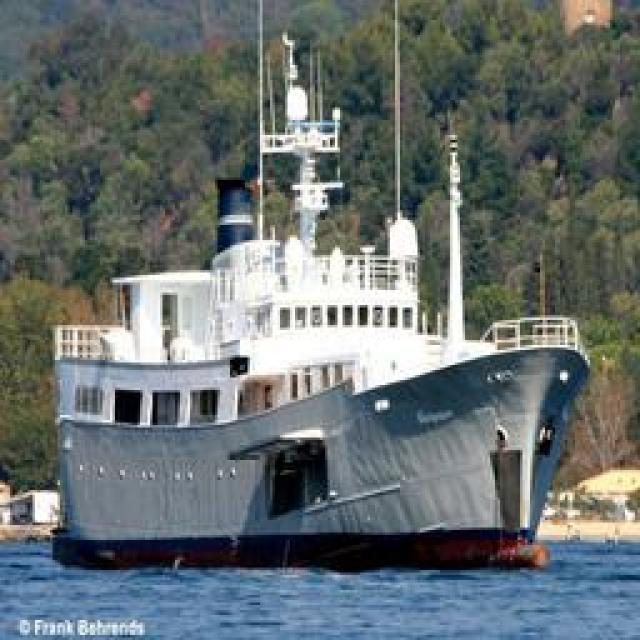CIV_Ship: (51, 308, 584, 570)
